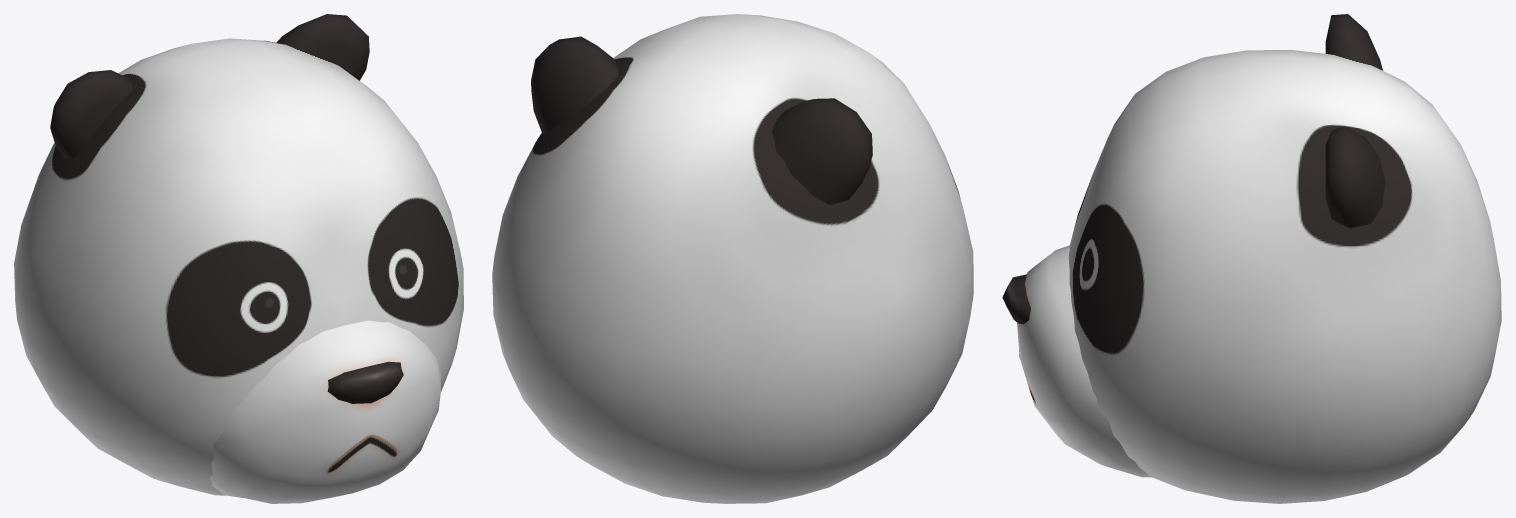
File: panda.FBX
The picture shows the model from 3 angles, left to right: view 1: azimuth 30°, elevation 25°; view 2: azimuth 150°, elevation 25°; view 3: azimuth 270°, elevation 25°; orthographic projection. The views are drawn at different scales.
Parts seen in each view (by area): view 1: panda; view 2: panda; view 3: panda.
Part boxes in pixels (<box>): panda: <box>14,14,463,503</box>; panda: <box>492,14,973,503</box>; panda: <box>1002,14,1501,503</box>.
Bounding box in the file's own units: 33.1 × 33.08 × 36.83.
